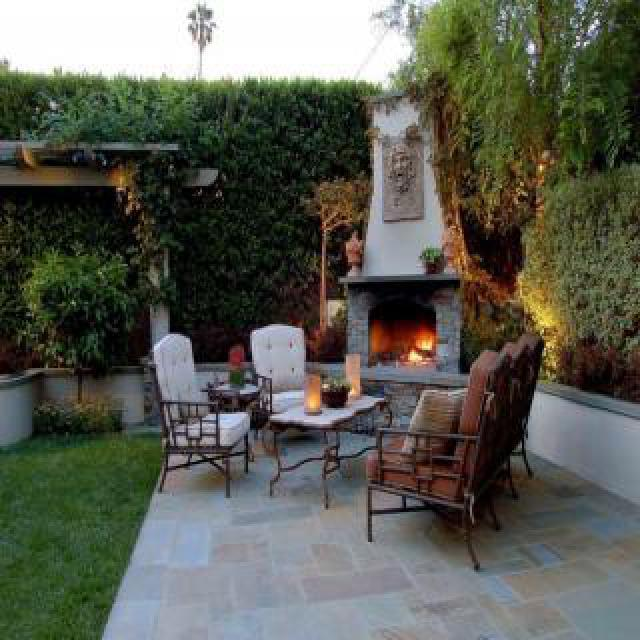Fire: (406, 314, 440, 366)
